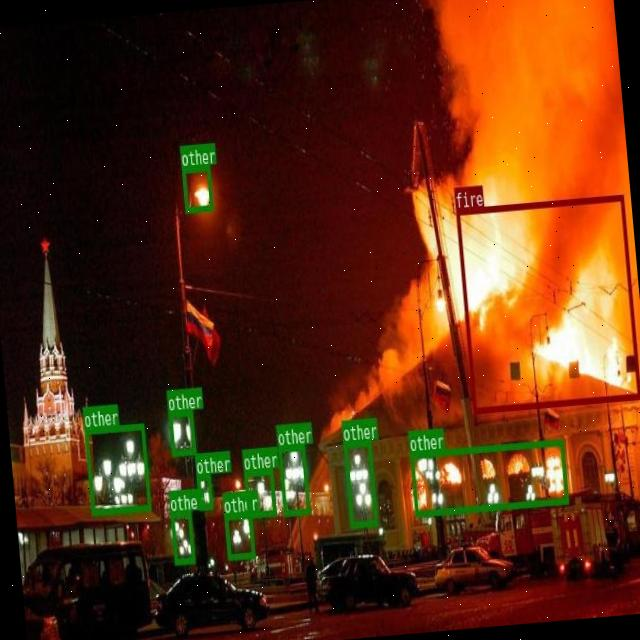fire: (455, 193, 640, 412)
